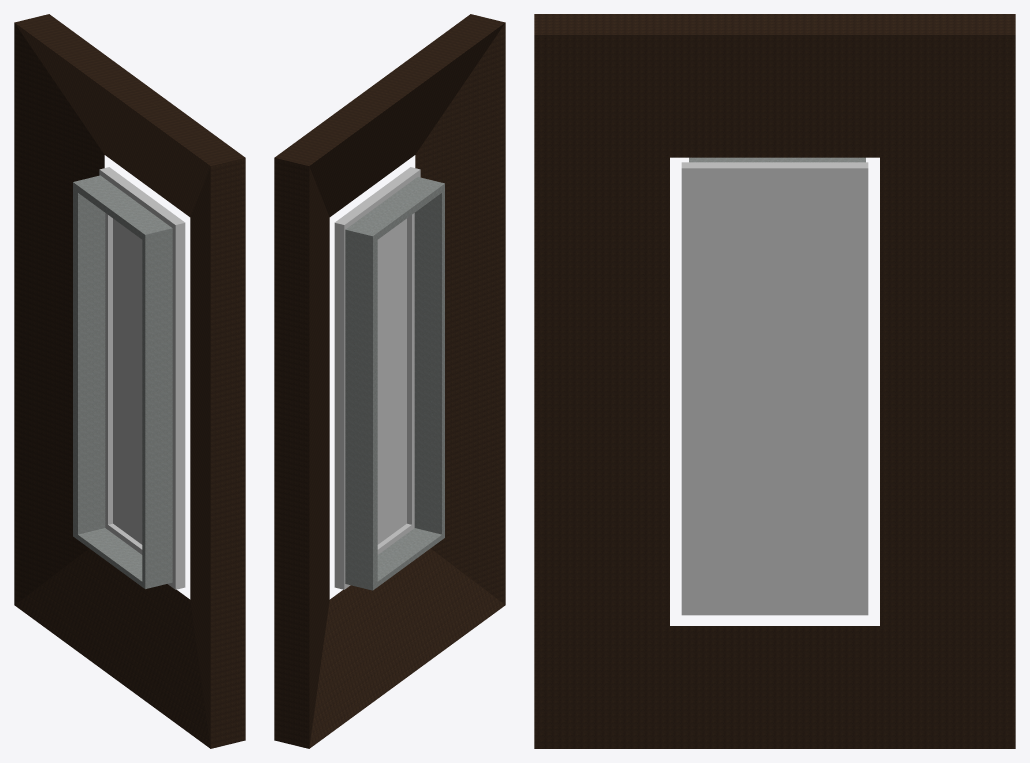
Rendered from EEC.16_CBM_Travail_de_session_01v2.obj.
The picture shows the model from 3 angles, left to right: view 1: azimuth 30°, elevation 25°; view 2: azimuth 150°, elevation 25°; view 3: azimuth 270°, elevation 25°; orthographic projection. The views are drawn at different scales.
Parts seen in each view (by area): view 1: Solid1:9, Solid1, Solid1:8, Solid1:5, Solid1:1, Solid1:4, Solid1:7, Solid1:6, Solid1:3; view 2: Solid1:9, Solid1:8, Solid1, Solid1:5, Solid1:4, Solid1:1, Solid1:7, Solid1:6, Solid1:3; view 3: Solid1:9, Solid1, Solid1:7.
Part boxes in pixels (x1=…): Solid1:9: x1=14, y1=14, x2=245, y2=748; Solid1: x1=104, y1=167, x2=185, y2=588; Solid1:8: x1=73, y1=175, x2=105, y2=539; Solid1:5: x1=142, y1=226, x2=172, y2=589; Solid1:1: x1=166, y1=217, x2=180, y2=589; Solid1:4: x1=99, y1=168, x2=112, y2=529; Solid1:7: x1=78, y1=179, x2=168, y2=239; Solid1:6: x1=78, y1=528, x2=142, y2=586; Solid1:3: x1=108, y1=174, x2=171, y2=223; Solid1:9: x1=274, y1=14, x2=505, y2=748; Solid1:8: x1=345, y1=226, x2=377, y2=590; Solid1: x1=334, y1=167, x2=415, y2=588; Solid1:5: x1=414, y1=177, x2=444, y2=539; Solid1:4: x1=339, y1=217, x2=353, y2=589; Solid1:1: x1=407, y1=168, x2=420, y2=529; Solid1:7: x1=351, y1=179, x2=441, y2=239; Solid1:6: x1=377, y1=528, x2=441, y2=586; Solid1:3: x1=348, y1=174, x2=411, y2=223; Solid1:9: x1=534, y1=14, x2=1015, y2=748; Solid1: x1=681, y1=165, x2=868, y2=615; Solid1:7: x1=696, y1=157, x2=853, y2=162.
Size of the model in its own units: 2250 by 33520 by 20469.
